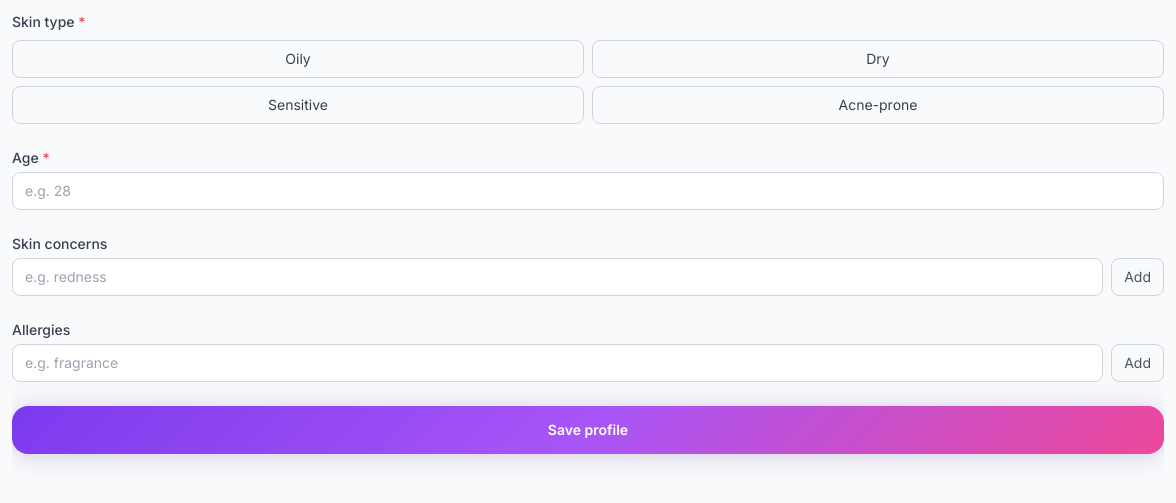
Scenario: SkinProfileForm › shows inline error for missing age when form is submitted
The image size is (1176, 503).
// Select skin type but leave age empty
Click the radio button labelled "Oily". click: (298, 59)
box: [12,40,584,78]
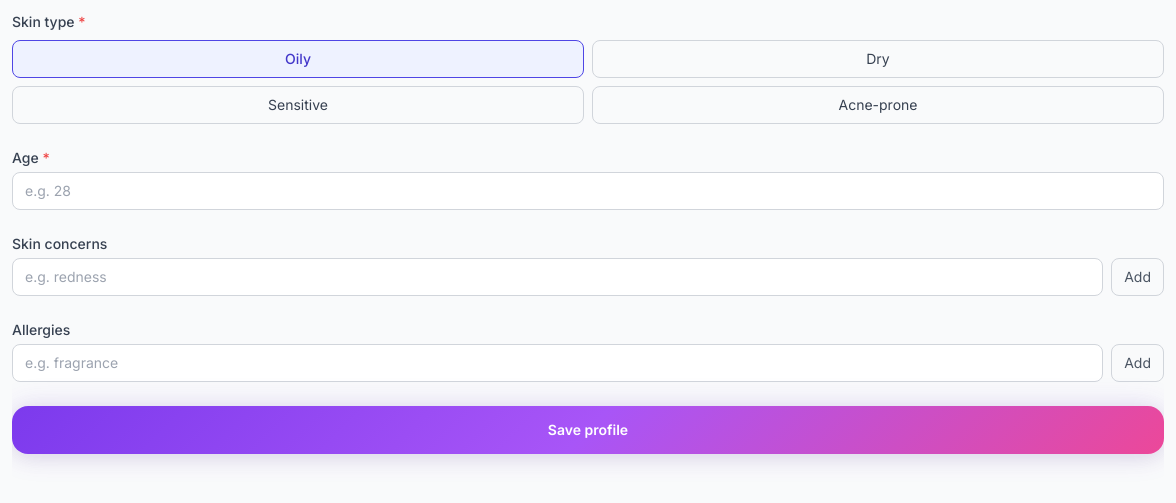
Click the button "Save profile". click: (588, 430)
box: [12,406,1164,454]
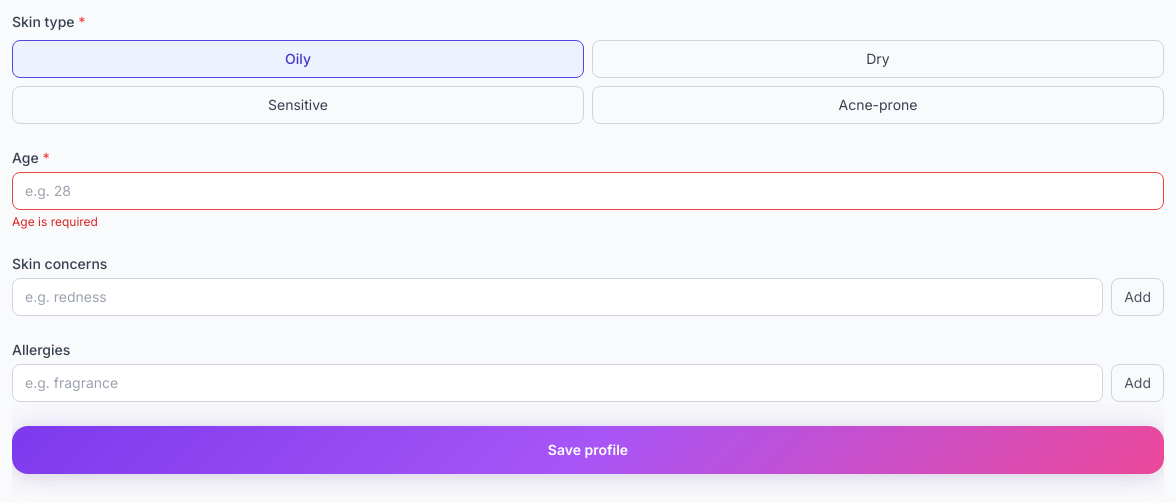
Expected: the text "Age is required" is shown, [12,214,98,229]
